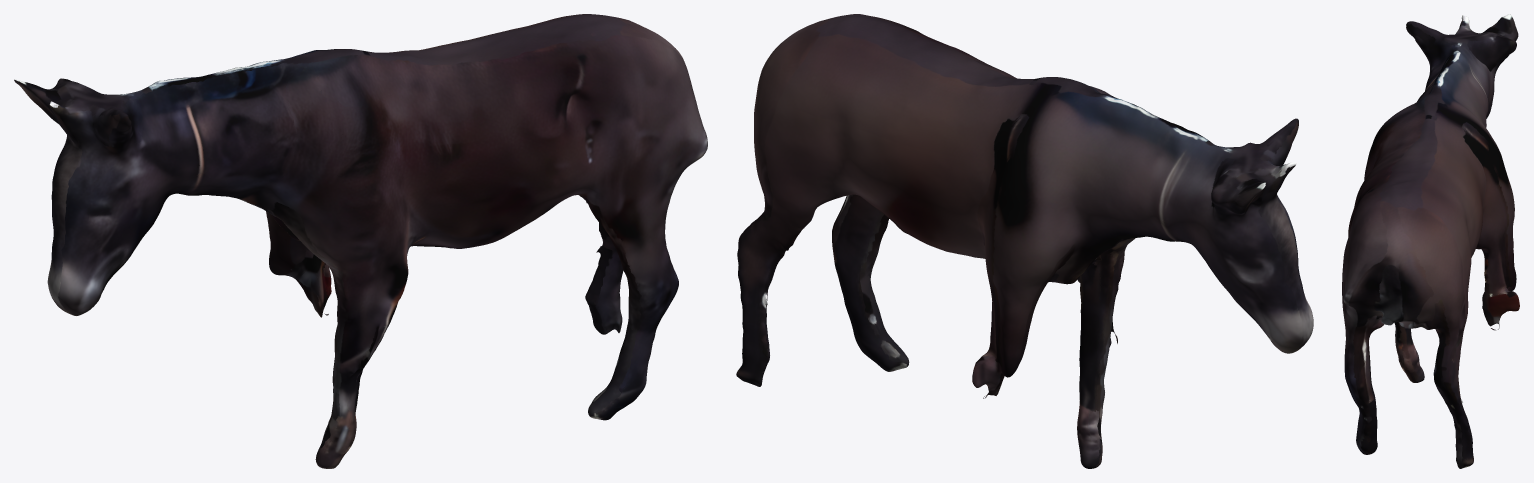
File: joven.glb
3 renders of one model, left to right at view 1: azimuth 30°, elevation 25°; view 2: azimuth 150°, elevation 25°; view 3: azimuth 270°, elevation 25°, orthographic. The views are drawn at different scales.
Parts seen in each view (by area): view 1: mesh; view 2: mesh; view 3: mesh.
Part boxes in pixels (x1,y1,x2,y2): mesh: (14,14,707,468); mesh: (736,14,1313,468); mesh: (1342,14,1519,468).
Size of the model in its own units: 1.65 by 1.08 by 0.6022.
Materials: 1 (1 with a texture image).
